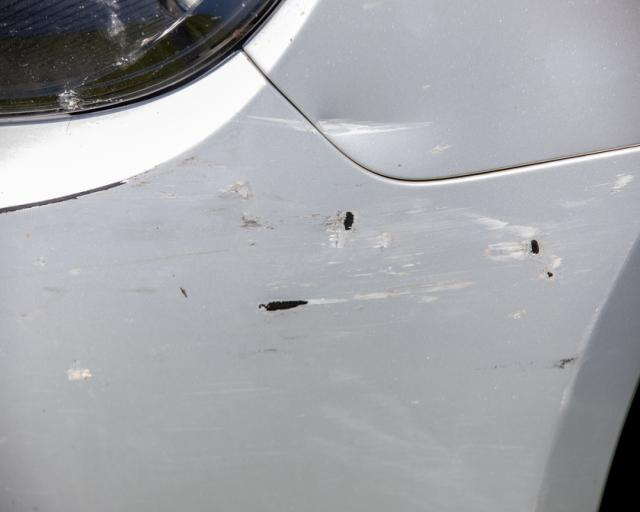dent: (313, 114, 416, 135)
scratch: (23, 114, 640, 462)
